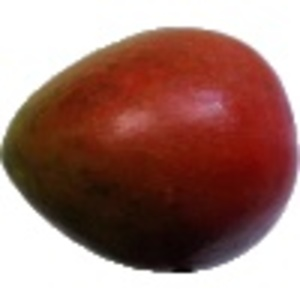manga: (1, 26, 300, 272)
